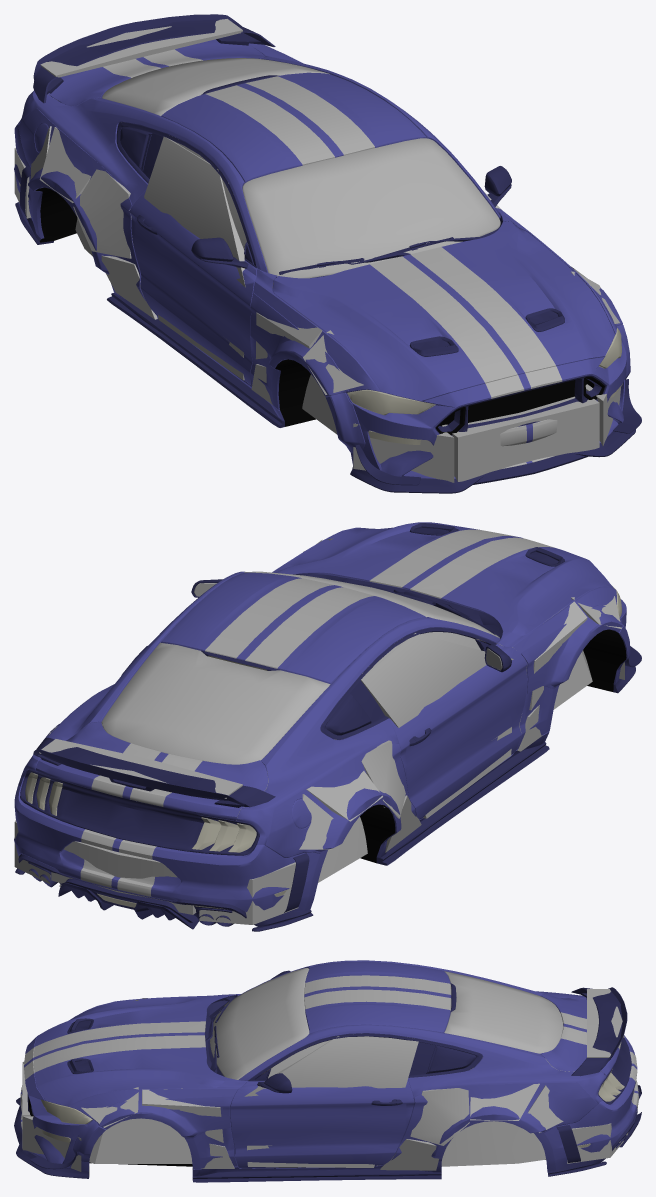
File: Ford_Mustang_1.fbx
3 renders of one model, top to bottom at view 1: azimuth 30°, elevation 25°; view 2: azimuth 150°, elevation 25°; view 3: azimuth 270°, elevation 25°, orthographic. The views are drawn at different scales.
Visible parts, largest first — view 1: base, GlassFront, polosi, DoorFrontRight, BumperFront, DoorFrontRightCol, BumperCol2, WingFrontRight, GlassRear, Spoiler, WingRRCol3, SpoilerCol (+10 smaller); view 2: base, GlassRear, polosi, BumperRear, DoorFrontRight, DoorFrontRightCol, WingFrontRight, Spoiler, BumperRCol2, WingRearRight, BumperRCol3, SpoilerCol (+10 smaller); view 3: base, DoorFrontLeft, polosi, GlassFront, GlassRear, DoorFrontLeftCol, WingFrontLeft, BumperRear, BodyCol2, BodyCol1, BumperFront, WingRLCol3 (+12 smaller).
Part boxes in pixels (x1,y1,x2,y2): base: [18, 39, 621, 435]; GlassFront: [242, 138, 500, 278]; polosi: [103, 49, 562, 468]; DoorFrontRight: [129, 190, 257, 385]; BumperFront: [325, 324, 641, 493]; DoorFrontRightCol: [144, 136, 245, 380]; BumperCol2: [441, 396, 599, 481]; WingFrontRight: [250, 278, 380, 409]; GlassRear: [102, 58, 329, 115]; Spoiler: [33, 14, 275, 103]; WingRRCol3: [73, 169, 132, 258]; SpoilerCol: [40, 19, 242, 77]; base: [18, 522, 626, 926]; GlassRear: [102, 642, 330, 764]; polosi: [80, 529, 554, 896]; BumperRear: [14, 785, 327, 931]; DoorFrontRight: [390, 640, 527, 819]; DoorFrontRightCol: [361, 633, 513, 818]; WingFrontRight: [507, 586, 622, 749]; Spoiler: [33, 737, 275, 807]; BumperRCol2: [51, 841, 196, 914]; WingRearRight: [309, 750, 416, 853]; BumperRCol3: [199, 862, 298, 924]; SpoilerCol: [39, 739, 242, 798]; base: [22, 960, 631, 1182]; DoorFrontLeft: [230, 1071, 414, 1168]; polosi: [20, 975, 638, 1129]; GlassFront: [210, 968, 309, 1079]; GlassRear: [444, 971, 563, 1053]; DoorFrontLeftCol: [244, 1036, 418, 1167]; WingFrontLeft: [68, 1087, 240, 1169]; BumperRear: [535, 1035, 641, 1176]; BodyCol2: [89, 1088, 192, 1163]; BodyCol1: [377, 1059, 574, 1166]; BumperFront: [14, 1091, 105, 1178]; WingRLCol3: [410, 1088, 469, 1145].
Bounding box in the file's own units: 20.82 × 12.38 × 48.33.
